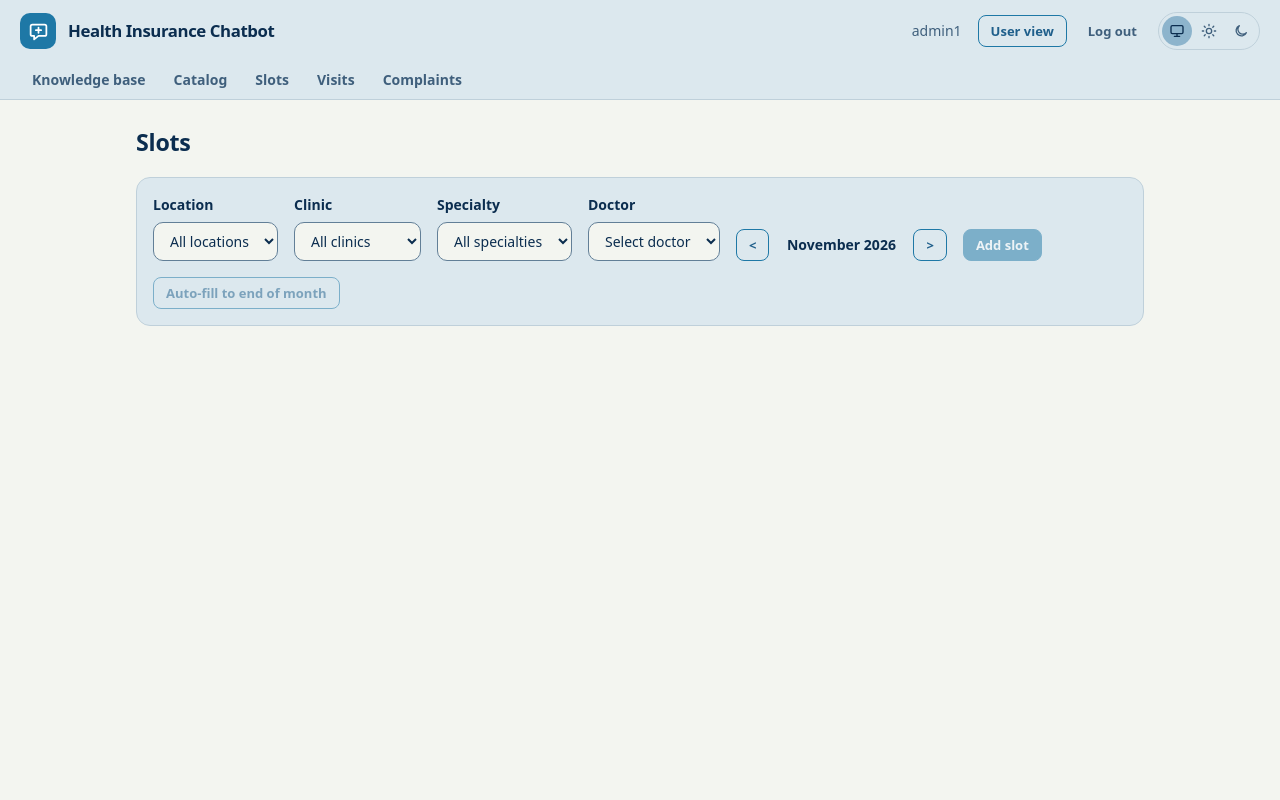
Scenario: AdminSlotsPage › AP3: a past slot is greyed and read-only
Select "Dr. Sara" in the dropdown with test id "doctor-select" at (654,241), box left=588, top=222, right=720, bottom=261
(page scrolled)
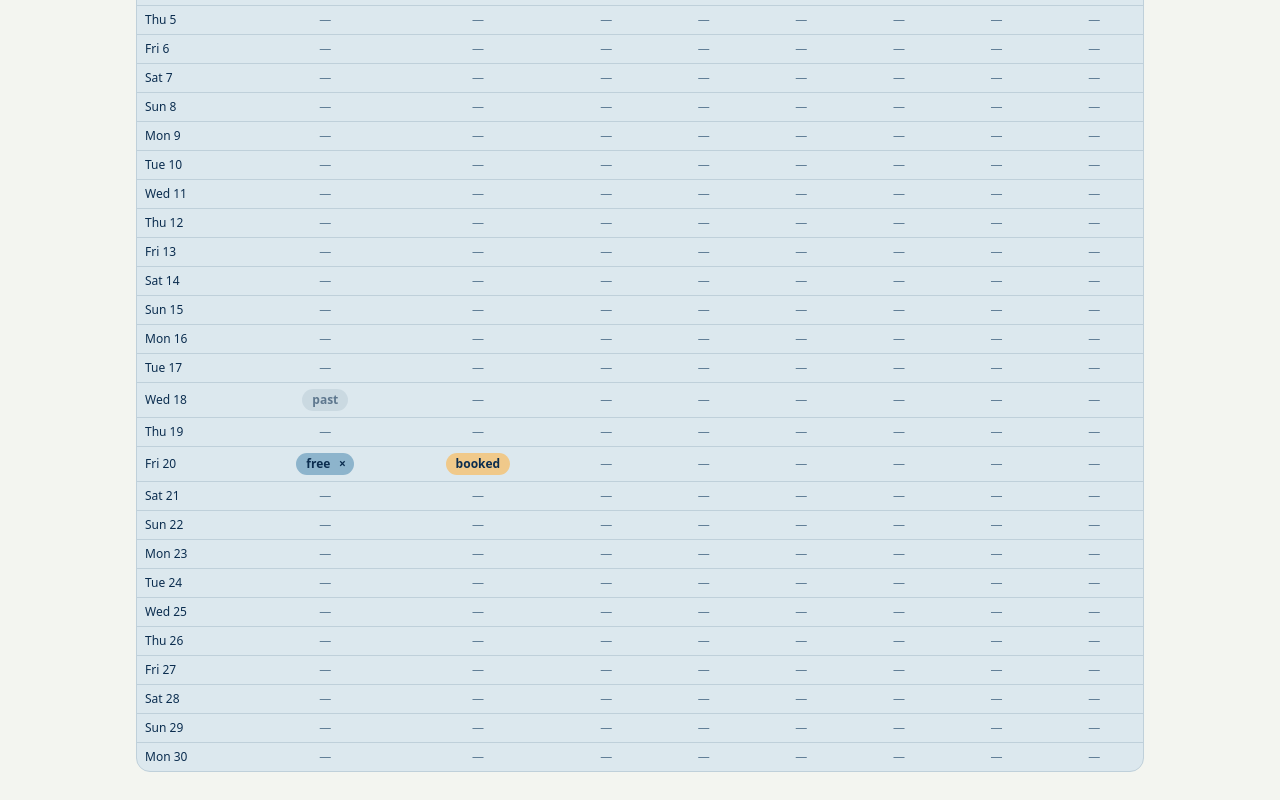
Now the text with test id "past-slot" reads "past", box left=312, top=391, right=338, bottom=408
